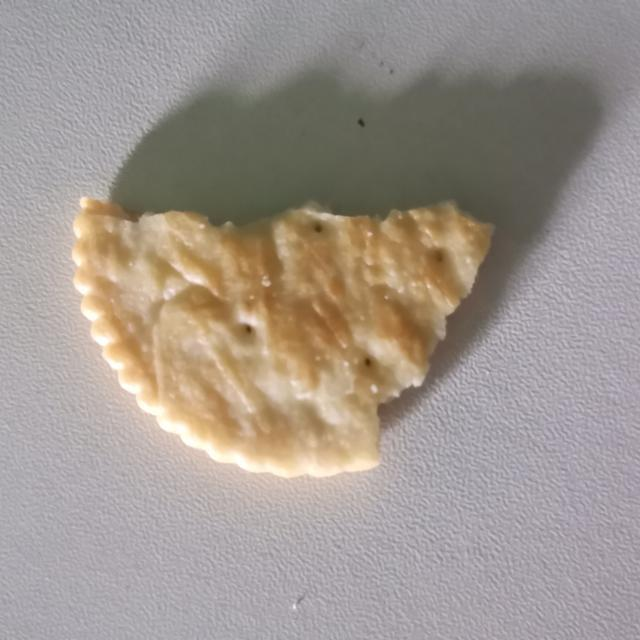Broken: (70, 193, 495, 479)
